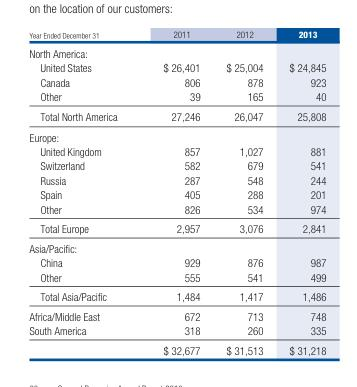table: (28, 28, 325, 355)
table column: (28, 28, 139, 355), (139, 28, 212, 355), (212, 28, 275, 355), (275, 28, 325, 355)
table column header: (28, 28, 325, 43)
table projected row header: (28, 43, 325, 60), (28, 126, 325, 143), (28, 238, 325, 255)
table row: (28, 105, 325, 126), (28, 218, 325, 238), (28, 286, 325, 305), (28, 43, 325, 60), (28, 88, 325, 105), (28, 126, 325, 143), (28, 201, 325, 218), (28, 238, 325, 255), (28, 269, 325, 286), (28, 305, 325, 322), (28, 322, 325, 339), (28, 339, 325, 355), (28, 28, 325, 43), (28, 143, 325, 158), (28, 172, 325, 187), (28, 60, 325, 74), (28, 74, 325, 88), (28, 158, 325, 172), (28, 187, 325, 201), (28, 255, 325, 269)
